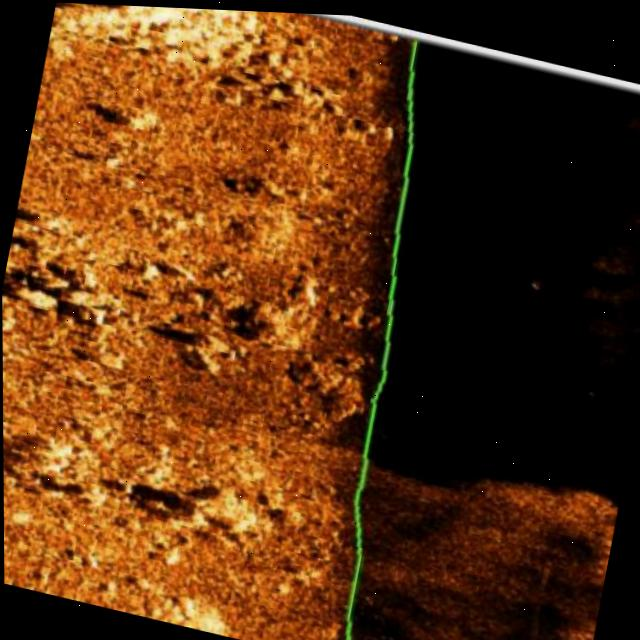bedrock group: (42, 1, 430, 162)
